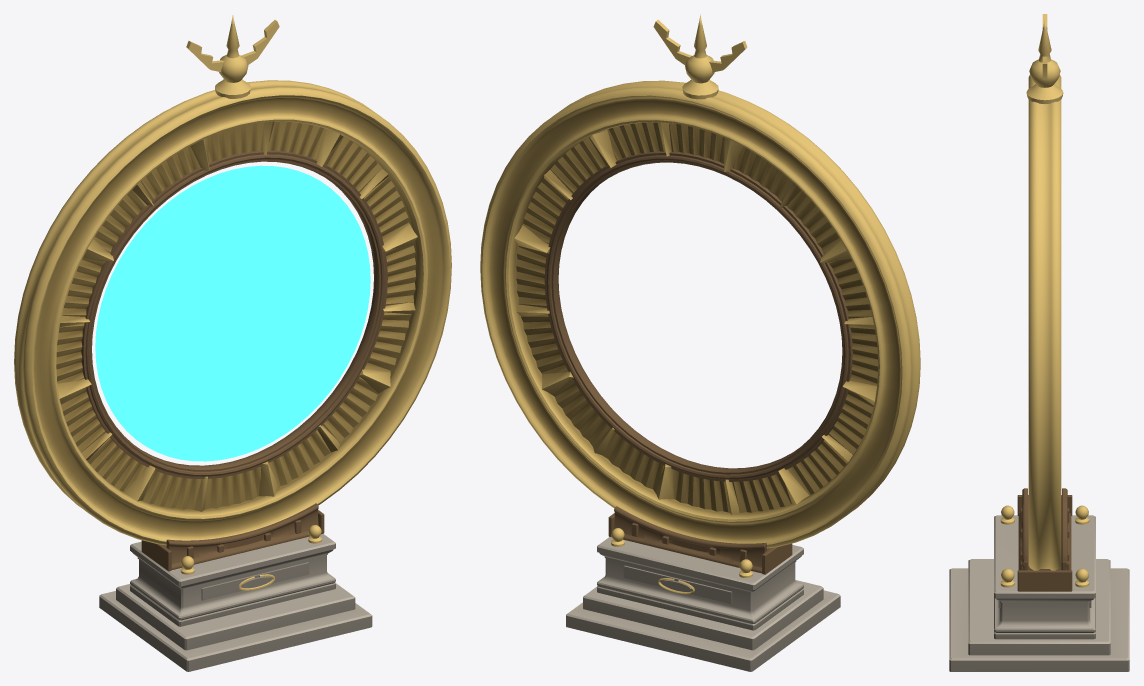
File: gate.glb
3 renders of one model, left to right at view 1: azimuth 30°, elevation 25°; view 2: azimuth 150°, elevation 25°; view 3: azimuth 270°, elevation 25°, orthographic.
Parts seen in each view (by area): view 1: gate_ring, CoreDisc, gate_stone, gate_frame, gate_saddle, gate_trim; view 2: gate_ring, gate_stone, gate_frame, gate_saddle, gate_trim; view 3: gate_stone, gate_ring, gate_saddle, gate_trim.
Boxes of the visible parts, x1=… form: gate_ring: x1=14, y1=80, x2=451, y2=545; CoreDisc: x1=95, y1=165, x2=370, y2=461; gate_stone: x1=99, y1=534, x2=372, y2=671; gate_frame: x1=81, y1=150, x2=387, y2=478; gate_saddle: x1=141, y1=503, x2=324, y2=571; gate_trim: x1=180, y1=15, x2=321, y2=590; gate_ring: x1=480, y1=80, x2=920, y2=548; gate_stone: x1=566, y1=537, x2=840, y2=671; gate_frame: x1=544, y1=151, x2=853, y2=481; gate_saddle: x1=608, y1=506, x2=792, y2=574; gate_trim: x1=611, y1=14, x2=752, y2=594; gate_stone: x1=949, y1=515, x2=1129, y2=671; gate_ring: x1=1028, y1=75, x2=1061, y2=570; gate_saddle: x1=1017, y1=488, x2=1072, y2=591; gate_trim: x1=1000, y1=14, x2=1089, y2=587.
Bounding box in the file's own units: 9.12 × 12.26 × 3.3.
